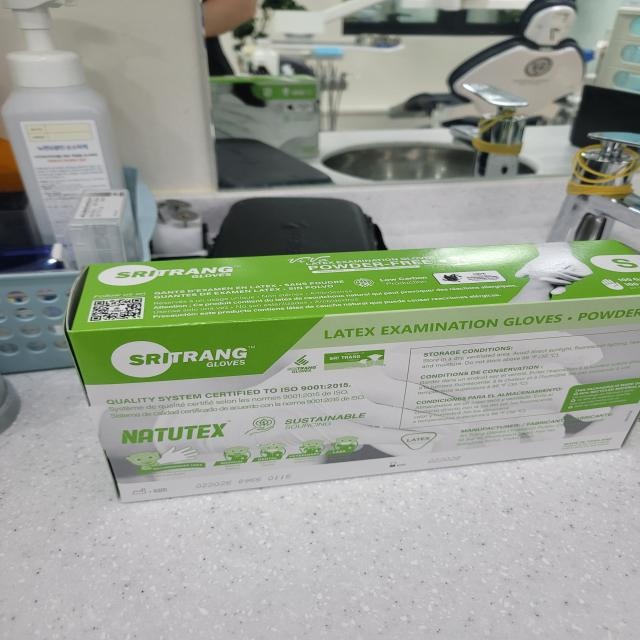glove: (51, 241, 640, 507)
